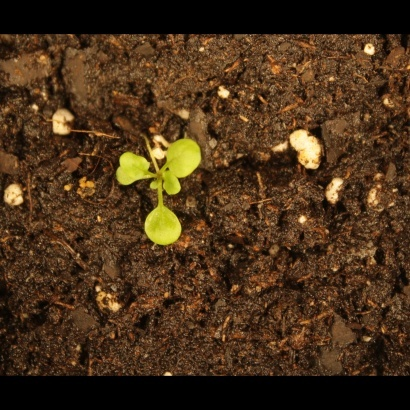leaf: (166, 134, 208, 184), (141, 207, 187, 249), (115, 149, 153, 181), (157, 171, 186, 200), (112, 165, 136, 191)
